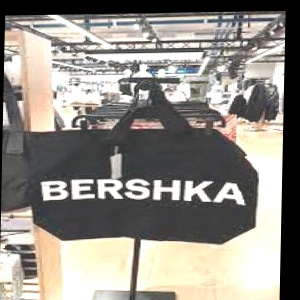bershka: (240, 90, 273, 249)
